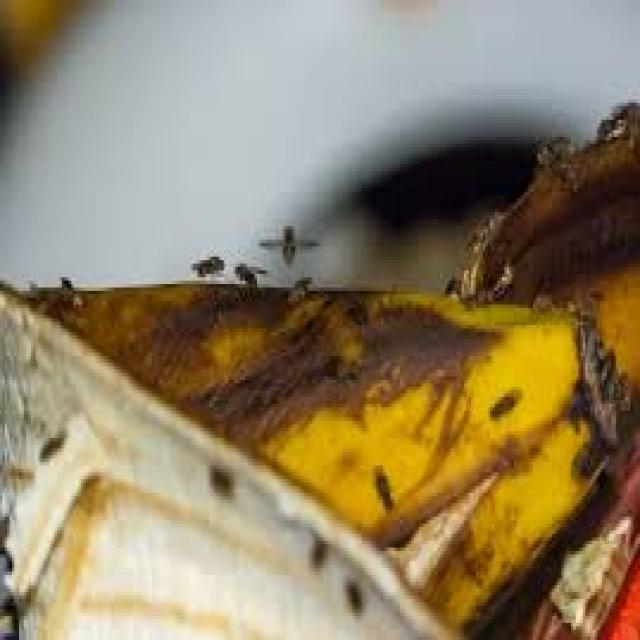fruit fly: (250, 209, 326, 267), (328, 565, 374, 616), (480, 373, 526, 424), (184, 240, 228, 288), (33, 414, 69, 469), (366, 456, 400, 514), (197, 452, 238, 499), (224, 250, 266, 294), (295, 524, 331, 575)
